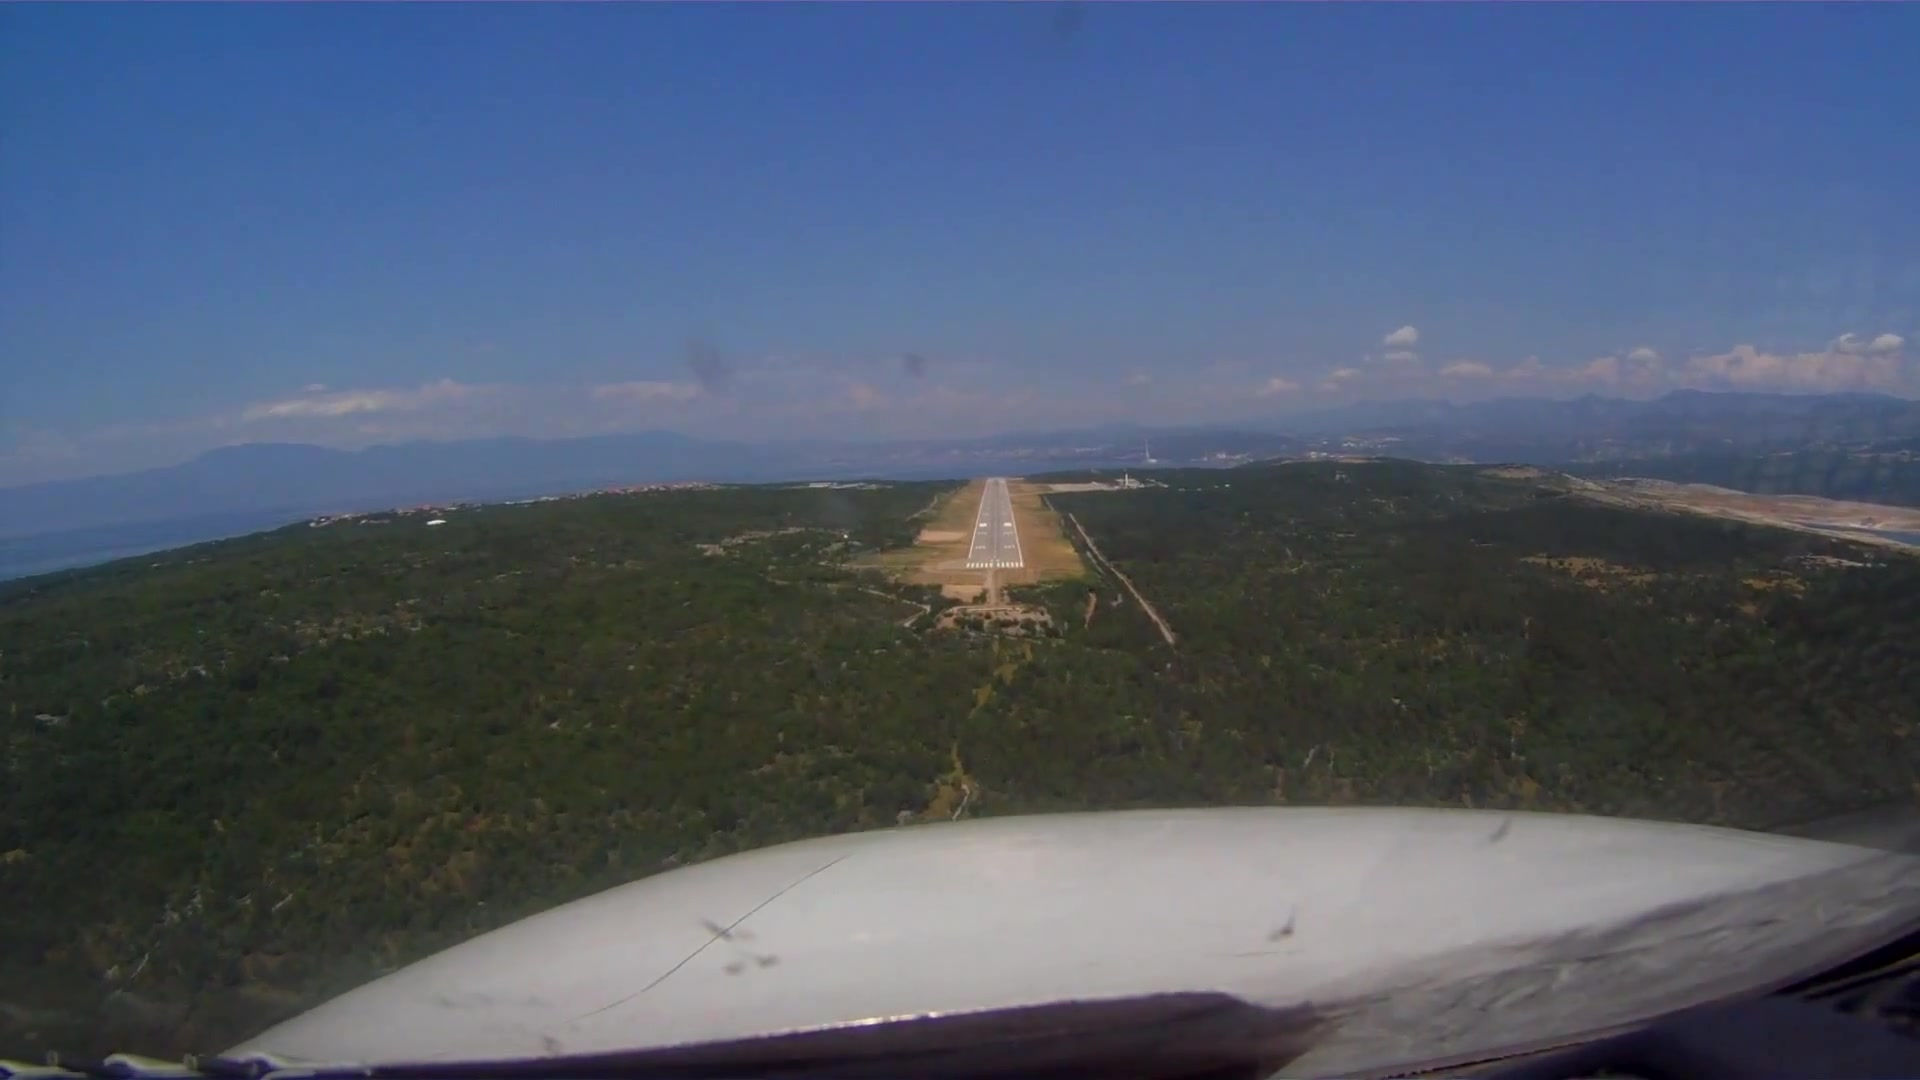entrance: (965, 560, 1022, 570)
runway: (963, 477, 1026, 574)
